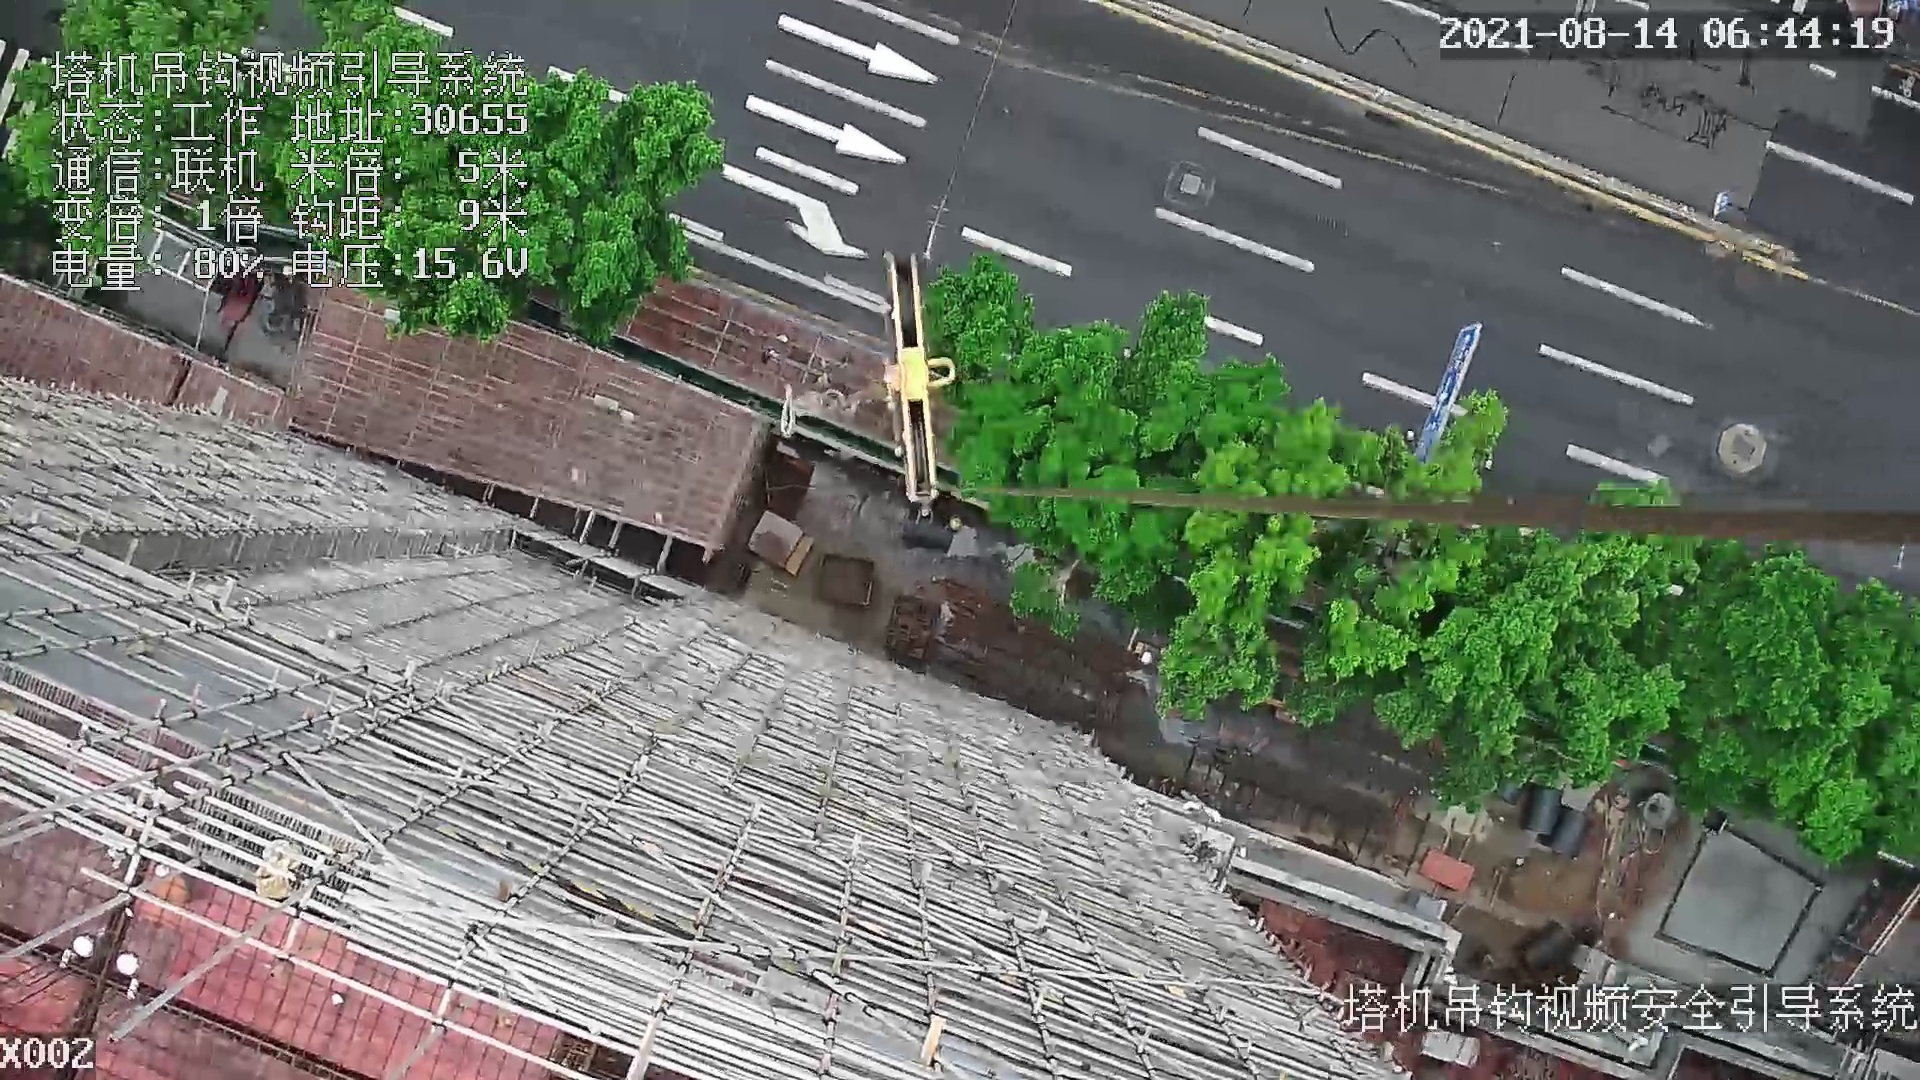hook: (862, 244, 963, 506)
